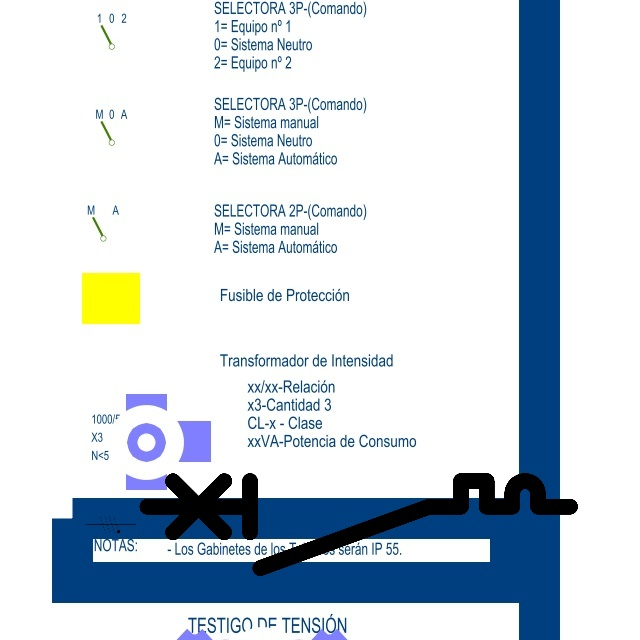interruptor_termomagnetico: (136, 470, 581, 579)
